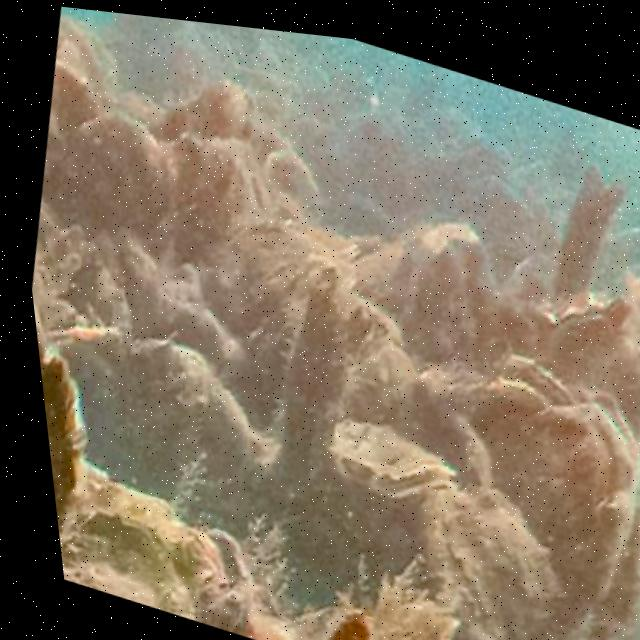Oyster-Closed: (330, 419, 450, 494), (536, 294, 622, 376)
Oyster-Indeterminate: (479, 403, 628, 640), (429, 485, 544, 640), (203, 219, 328, 330), (403, 222, 494, 362), (175, 135, 259, 265), (67, 114, 165, 225), (38, 339, 80, 536), (344, 347, 418, 422), (202, 375, 251, 466), (48, 66, 103, 130), (162, 345, 212, 408)
Oyster-Open: (476, 357, 573, 425), (163, 79, 258, 143), (193, 526, 250, 628)
